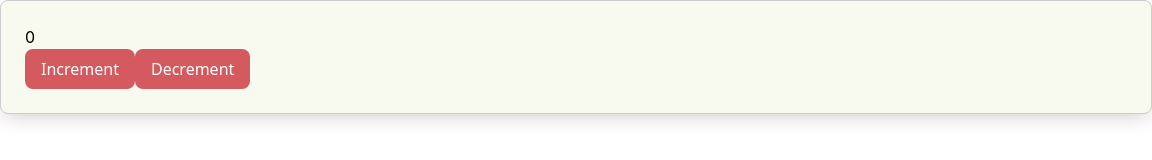
YYC³ Design System Integration Tests › User Flow: State Management › should maintain component state across interactions
The image size is (1152, 160).
Expected: the text with test id "count" reads "0", [25,27,35,47]
What coordinates should you click on to do the following:
click the button with test id "increment"
I would click on:
 (80, 69)
Its box is [25,49,135,89].
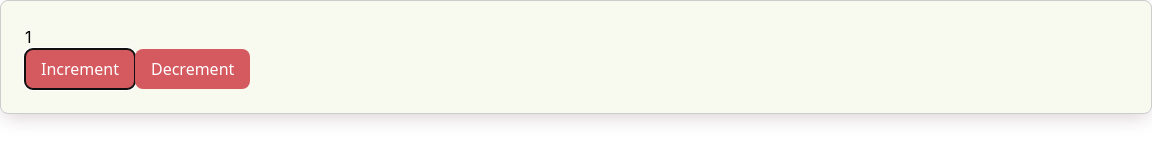
What coordinates should you click on to do the following:
click the button with test id "increment"
I would click on:
 (80, 69)
Its box is [25,49,135,89].
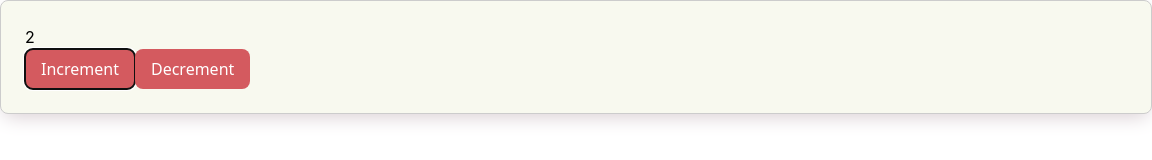
What coordinates should you click on to do the following:
click the button with test id "increment"
I would click on:
 (80, 69)
Its box is [25,49,135,89].
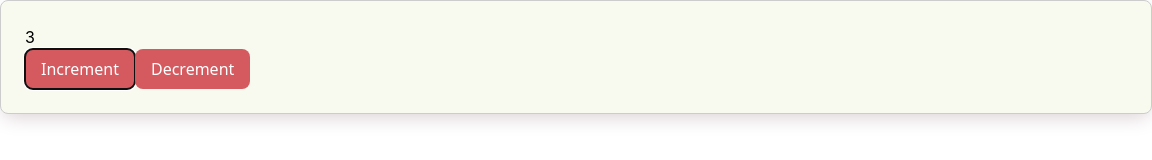
Result: the text with test id "count" reads "3" at [25,27,35,47]
What coordinates should you click on to do the following:
click the button with test id "decrement"
I would click on:
 (193, 69)
Its box is [135,49,250,89].
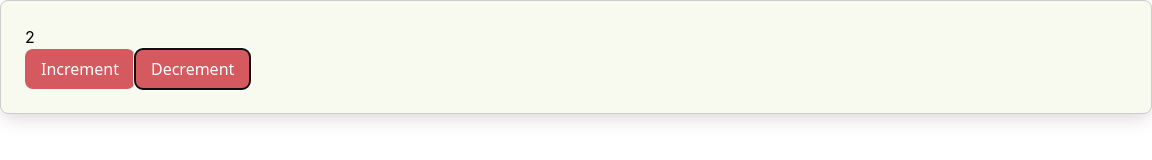
What coordinates should you click on to do the following:
click the button with test id "decrement"
I would click on:
 (193, 69)
Its box is [135,49,250,89].
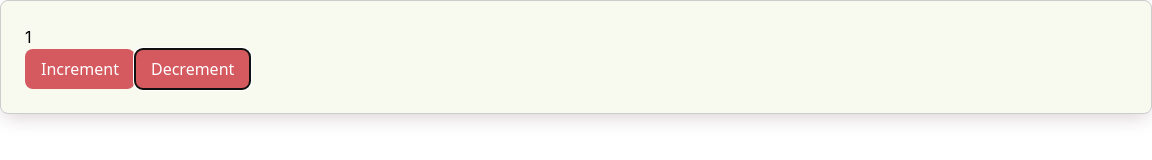
Result: the text with test id "count" reads "1" at [25,27,32,47]
